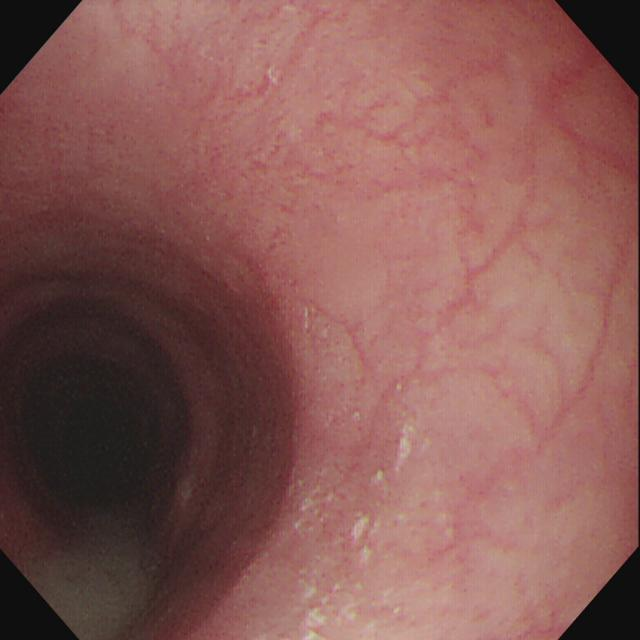E: (63, 406, 142, 493)
J: (369, 423, 416, 487), (301, 567, 332, 640), (350, 511, 381, 563), (175, 477, 197, 505)
T: (23, 516, 164, 640)
